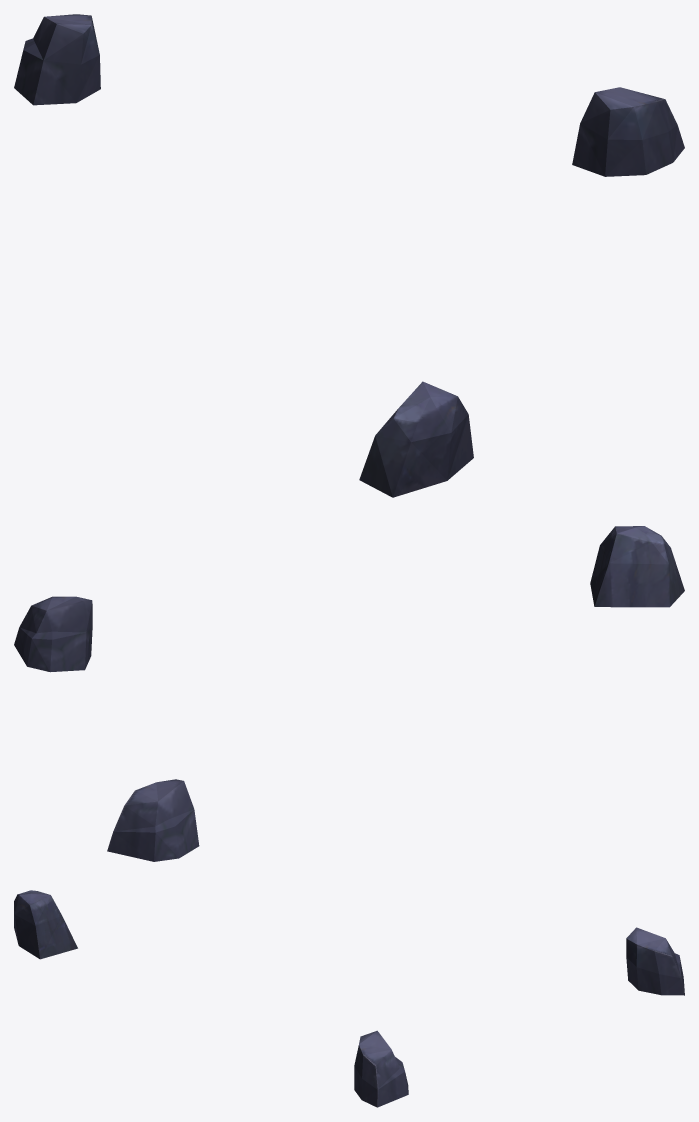
Rendered from Area06_6.fbx.
3 views of the same model, one above another, from view 1: azimuth 30°, elevation 25°; view 2: azimuth 150°, elevation 25°; view 3: azimuth 270°, elevation 25° (orthographic). The views are drawn at different scales.
Parts seen in each view (by area): view 1: Area06_6; view 2: Area06_6; view 3: Area06_6.
Part boxes in pixels (<box>): Area06_6: <box>14,14,684,497</box>; Area06_6: <box>14,526,684,861</box>; Area06_6: <box>14,890,684,1107</box>.
Size of the model in its own units: 1861 by 249 by 2914.
